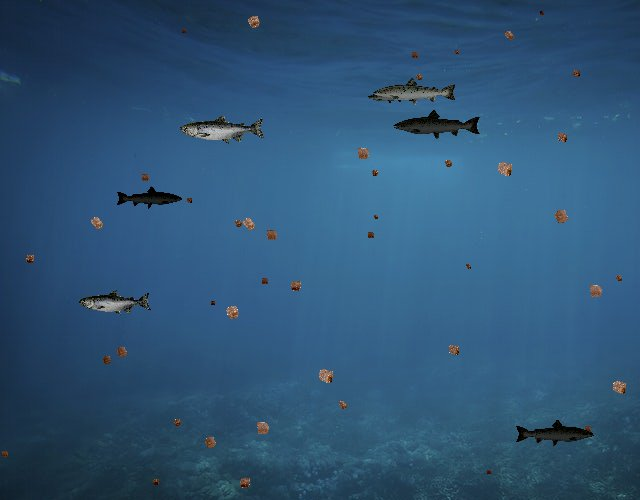Fish: (393, 108, 483, 141), (372, 76, 458, 107), (180, 114, 266, 145), (515, 418, 596, 447), (80, 290, 153, 316), (115, 186, 183, 210), (367, 88, 414, 105)
Pellet: (249, 414, 276, 441), (351, 141, 376, 166), (233, 472, 256, 494), (499, 25, 519, 45), (363, 228, 378, 242), (452, 46, 462, 56)
